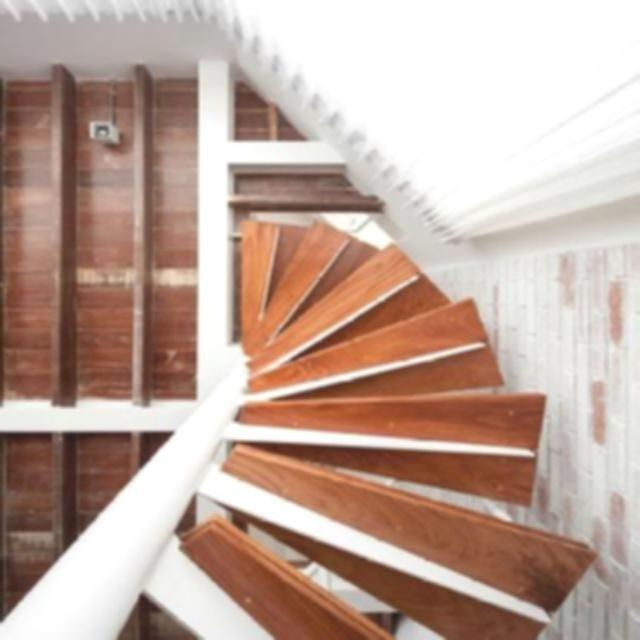stair: (6, 212, 614, 640)
